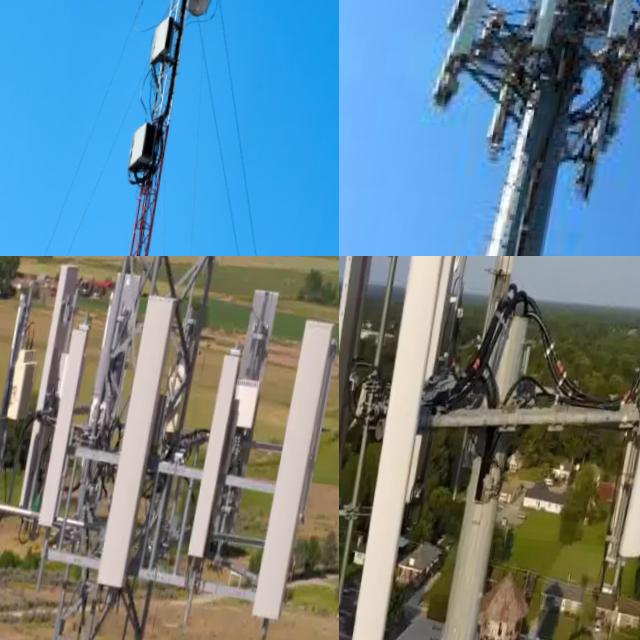GSM Antenna: (428, 300, 543, 640), (95, 280, 188, 615), (252, 311, 339, 636), (358, 256, 456, 537), (339, 256, 409, 595), (13, 268, 80, 519), (217, 278, 283, 501), (37, 323, 99, 550), (184, 354, 246, 568), (0, 284, 43, 510), (473, 256, 537, 381), (598, 0, 639, 62), (528, 0, 570, 55), (447, 0, 483, 29)
Microwave Antenna: (186, 0, 222, 23)
